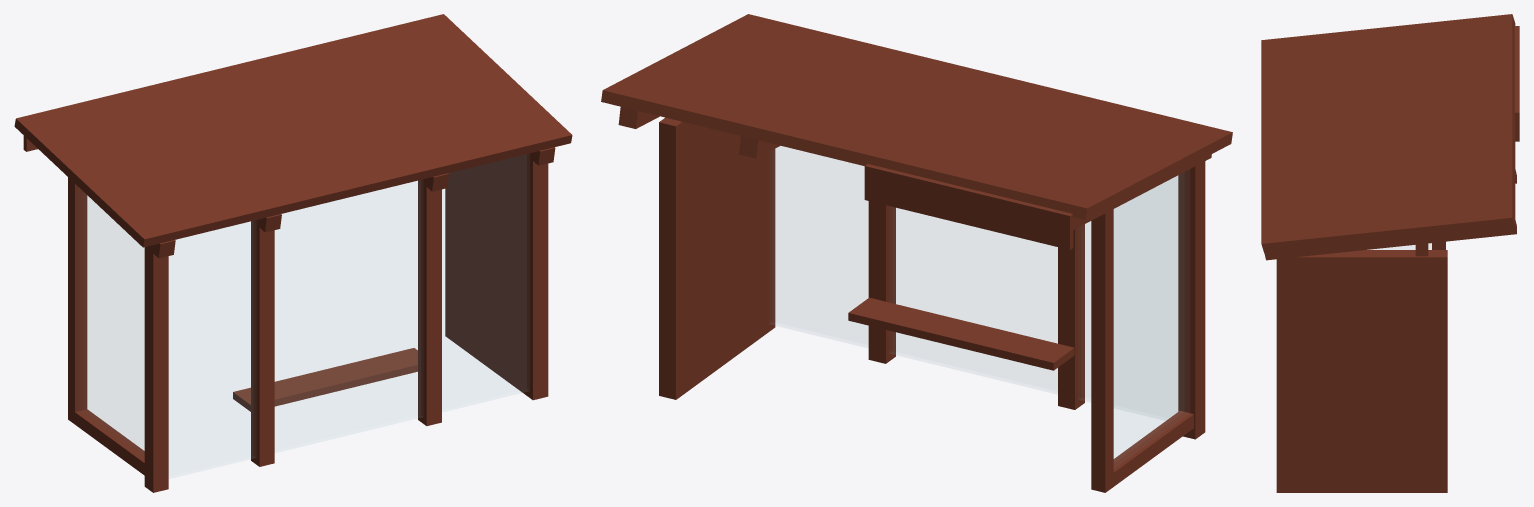
Rendered from BusStop2.fbx.
The picture shows the model from 3 angles, left to right: view 1: azimuth 30°, elevation 25°; view 2: azimuth 150°, elevation 25°; view 3: azimuth 270°, elevation 25°; orthographic projection. The views are drawn at different scales.
Visible parts, largest first — view 1: Bus_Stop_01, Bus_Stop_01_glass; view 2: Bus_Stop_01, Bus_Stop_01_glass; view 3: Bus_Stop_01.
Boxes of the visible parts, left/top/right/bottom form: Bus_Stop_01: left=14, top=14, right=572, bottom=492; Bus_Stop_01_glass: left=84, top=155, right=527, bottom=478; Bus_Stop_01: left=601, top=14, right=1232, bottom=492; Bus_Stop_01_glass: left=771, top=146, right=1183, bottom=462; Bus_Stop_01: left=1261, top=14, right=1519, bottom=492.
Size of the model in its own units: 382 by 247 by 204.
